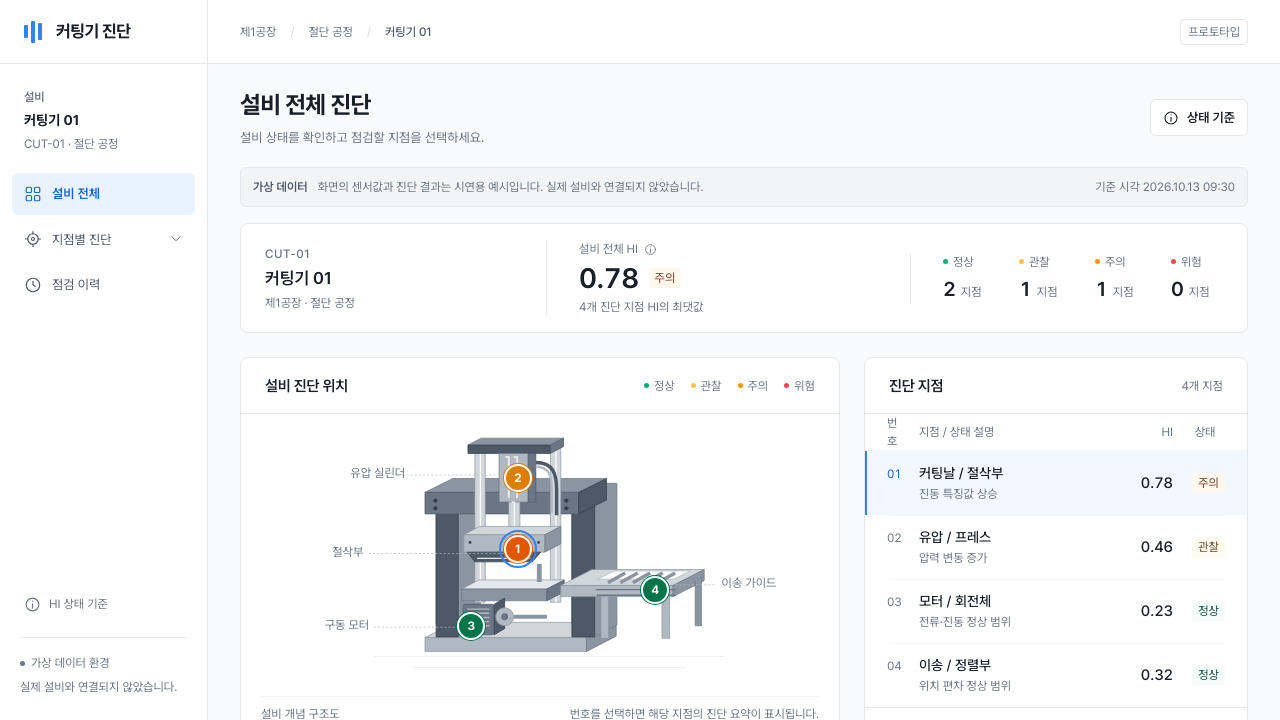
설비 전체 진단 화면의 사용자 흐름 › HI 기준 모달을 열고 닫는다
Click the button "HI 상태 기준": (66, 604) [20,587,112,621]
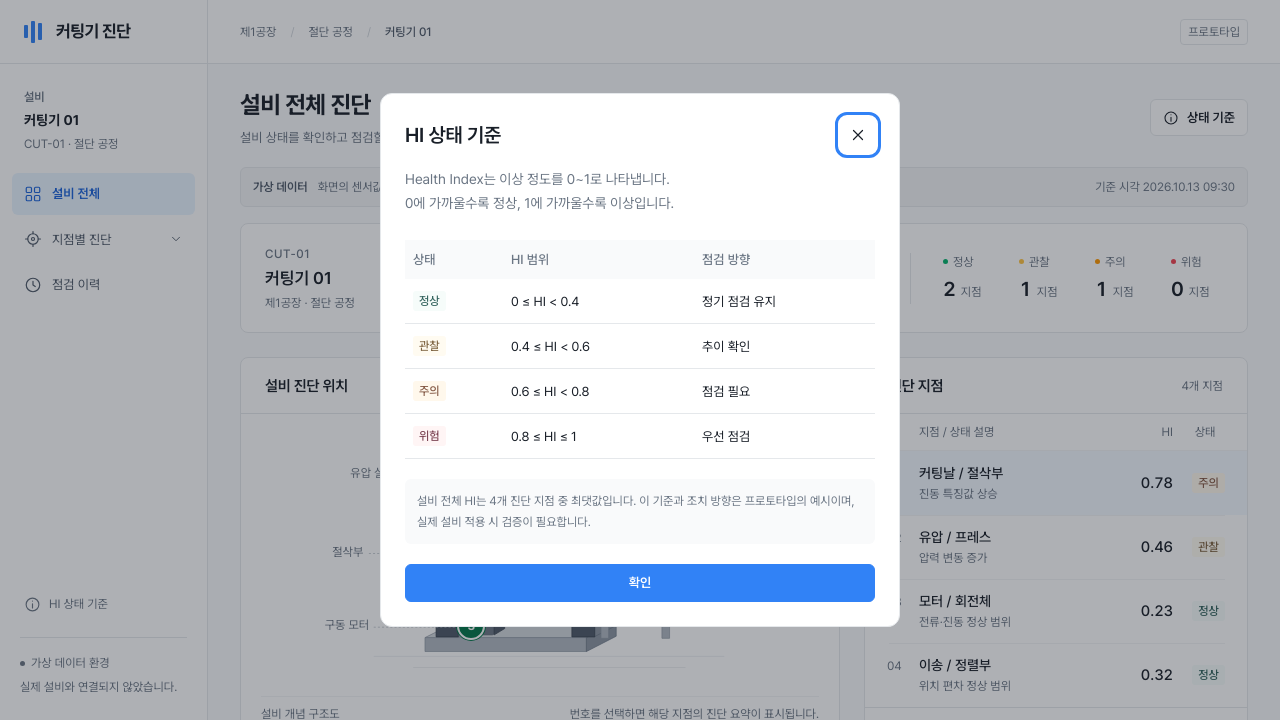
Expected: the dialog is shown, [380,93,900,627]
Expected: the dialog shows "0.8 ≤ HI ≤ 1", [511,429,577,444]
Click the button "확인": (640, 583) [405,564,875,602]
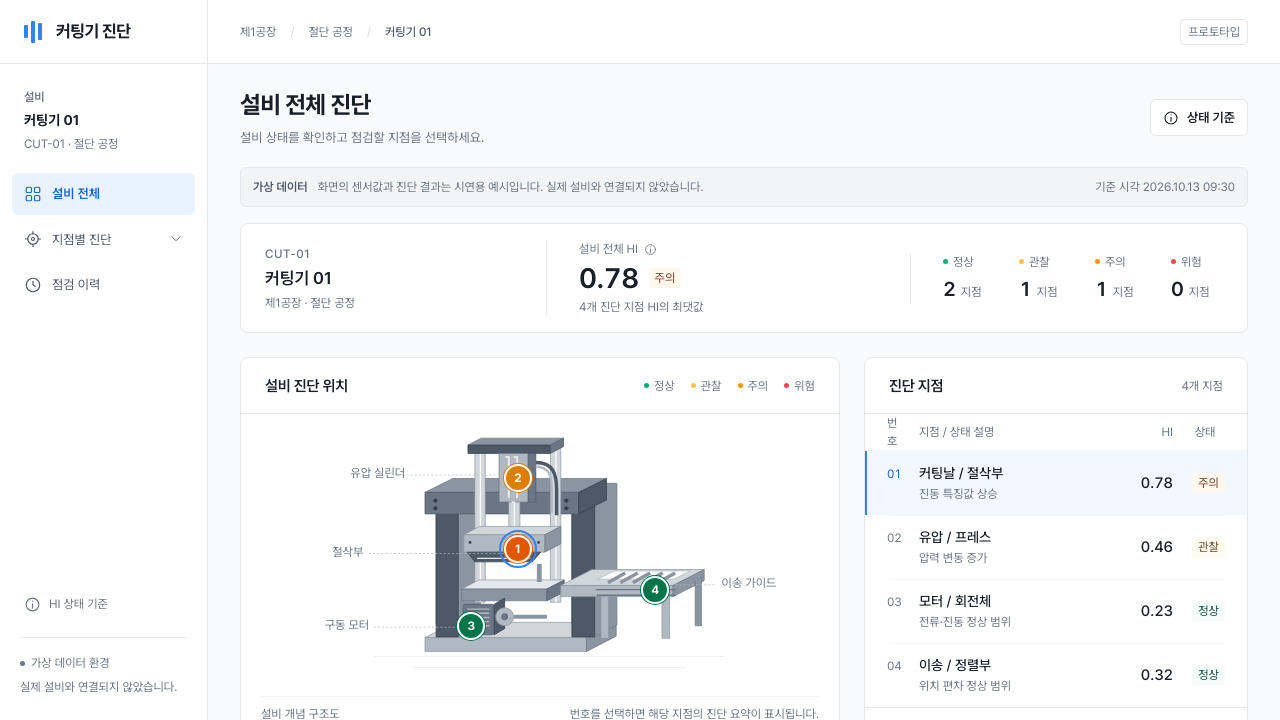
Expected: the dialog is gone
